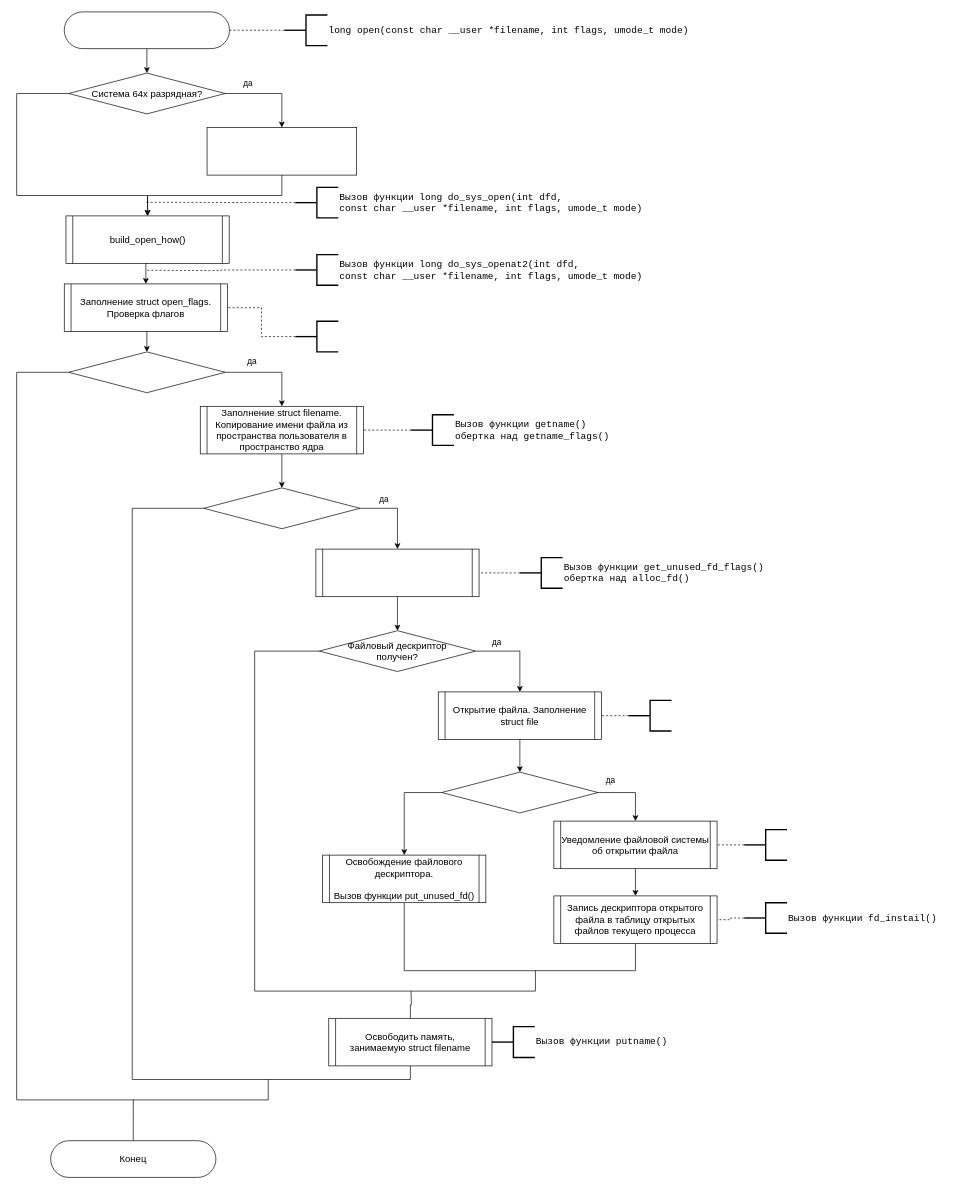
The diagram is 966 pixels wide and 1189 high, and some of its shapes have lost their labels. The centre of each missing label's shape, as x and y in pixels:
"Вызов функции build_open_flags()" goes at pixel 316 336.
"Вызов функции do_filp_open()" goes at pixel 650 715.
"Вызов функции fsnotify_open()" goes at pixel 765 845.
"Добавить флаг O_LARGEFILE" goes at pixel 281 151.
"Копирование успешно?" goes at pixel 281 508.
"Начало" goes at pixel 147 30.
"Поиск свободного файлового дескриптора и отметить его как занятый" goes at pixel 397 572.
"Проверка флагов успешна?" goes at pixel 146 372.
"Файл открыт?" goes at pixel 519 792.
